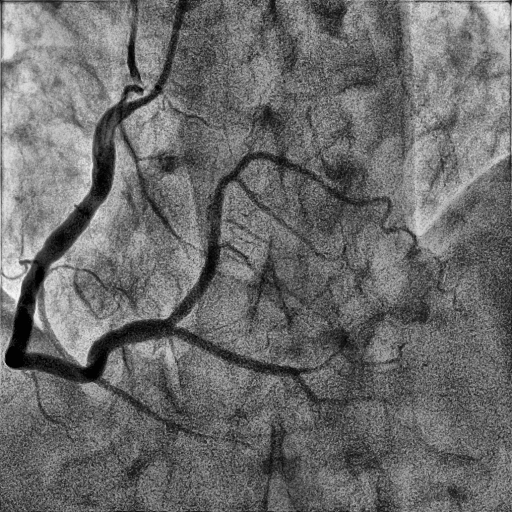pborca: (168, 151, 464, 325)
pda: (173, 327, 393, 405)
rca: (5, 95, 176, 383)
